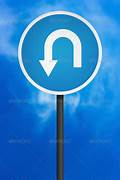back: (17, 10, 102, 95)
